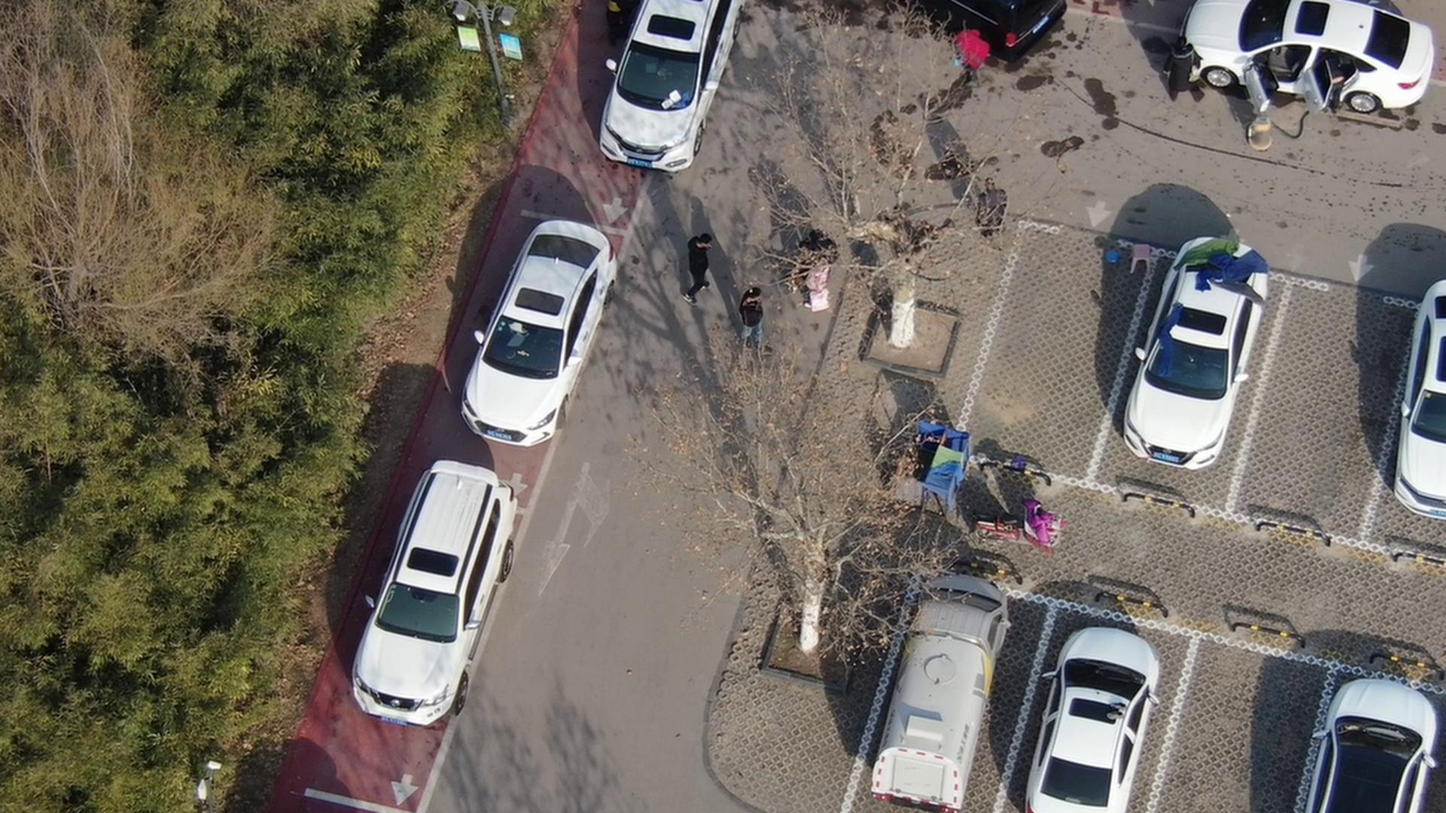class_2: (803, 218, 844, 325)
human: (1165, 30, 1217, 108), (975, 167, 1019, 253), (959, 11, 999, 87), (688, 225, 725, 306), (741, 278, 775, 348), (1320, 48, 1351, 119), (612, 1, 651, 47)
